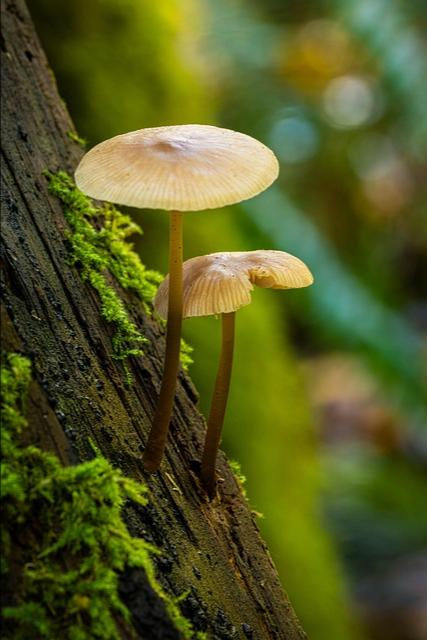Non_Gorille: (11, 63, 362, 608)
